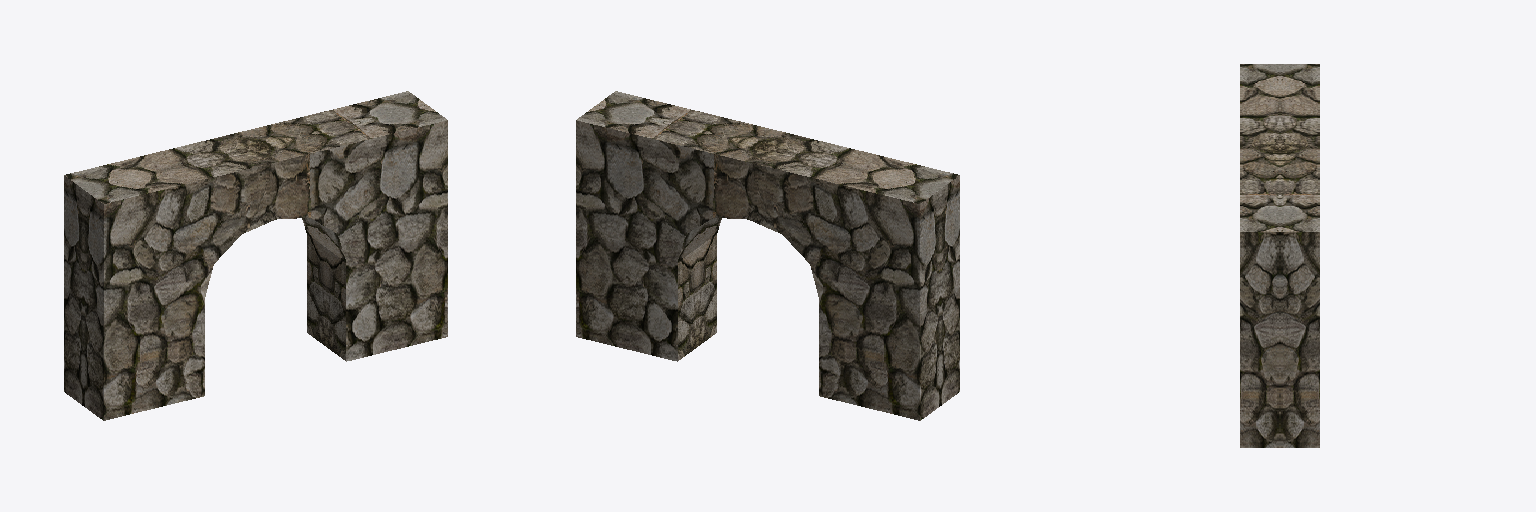
3 views of the same model, side by side, from view 1: azimuth 30°, elevation 25°; view 2: azimuth 150°, elevation 25°; view 3: azimuth 270°, elevation 25° (orthographic).
Visible parts, largest first — view 1: Object199; view 2: Object199; view 3: Object199.
Part boxes in pixels (x1,y1,x2,y2): Object199: (64, 91, 447, 420); Object199: (576, 91, 959, 420); Object199: (1240, 64, 1319, 447).
Bounding box in the file's own units: 197 × 118 × 39.37.
1 materials, 1 textured.